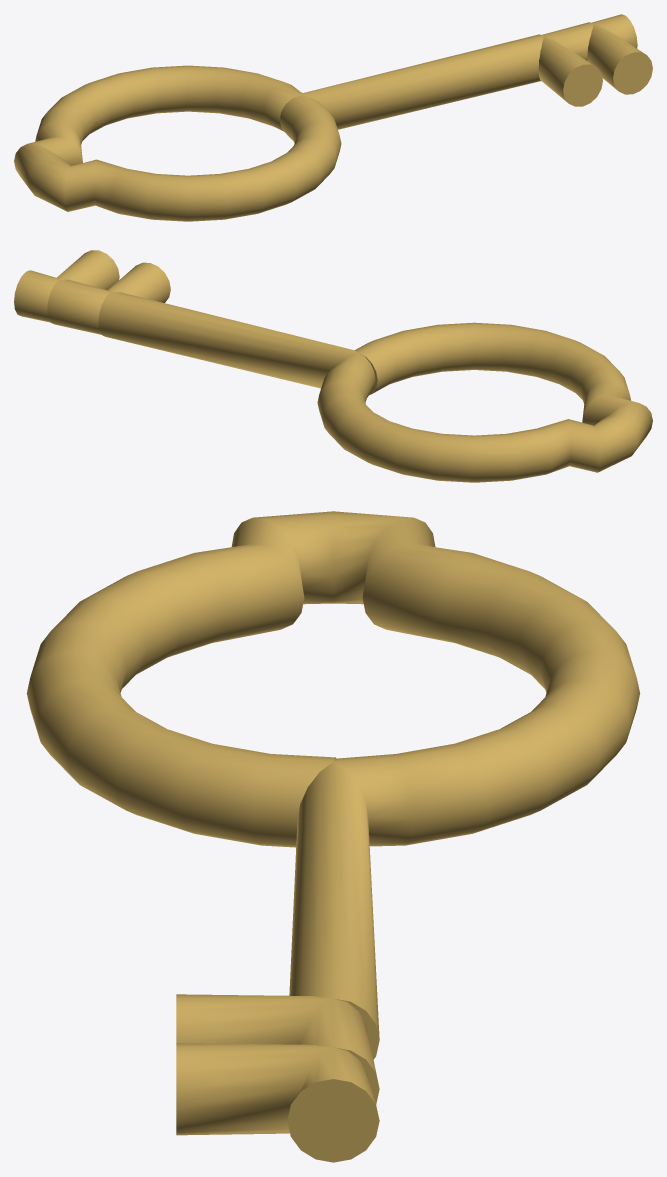
Rendered from key.fbx.
3 renders of one model, top to bottom at view 1: azimuth 30°, elevation 25°; view 2: azimuth 150°, elevation 25°; view 3: azimuth 270°, elevation 25°, orthographic. The views are drawn at different scales.
Parts seen in each view (by area): view 1: Circle; view 2: Circle; view 3: Circle.
Boxes of the visible parts, <box> form: Circle: <box>14,14,652,221</box>; Circle: <box>14,250,652,482</box>; Circle: <box>26,511,640,1162</box>.
Size of the model in its own units: 837 by 56 by 372.
